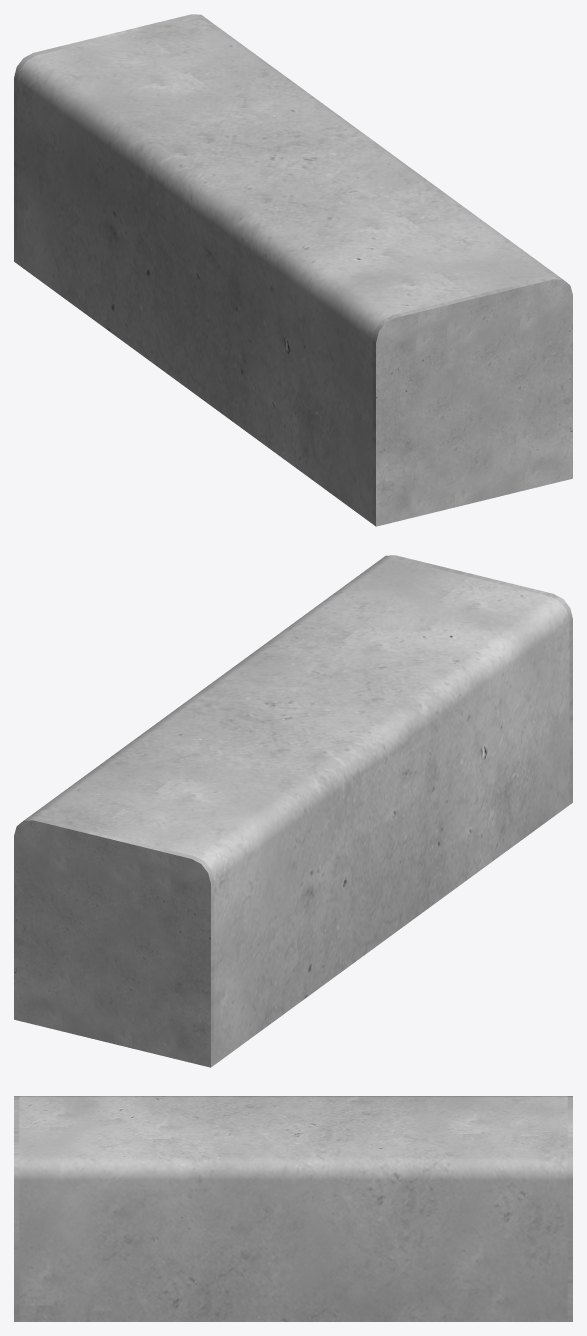
Rendered from enseki_02.fbx.
3 views of the same model, one above another, from view 1: azimuth 30°, elevation 25°; view 2: azimuth 150°, elevation 25°; view 3: azimuth 270°, elevation 25° (orthographic). The views are drawn at different scales.
Visible parts, largest first — view 1: Empty_Mesh; view 2: Empty_Mesh; view 3: Empty_Mesh.
Boxes of the visible parts, x1=… form: Empty_Mesh: x1=14, y1=14, x2=572, y2=526; Empty_Mesh: x1=14, y1=555, x2=572, y2=1067; Empty_Mesh: x1=14, y1=1096, x2=572, y2=1321.
Bounding box in the file's own units: 0.1521 × 0.1507 × 0.4846.
